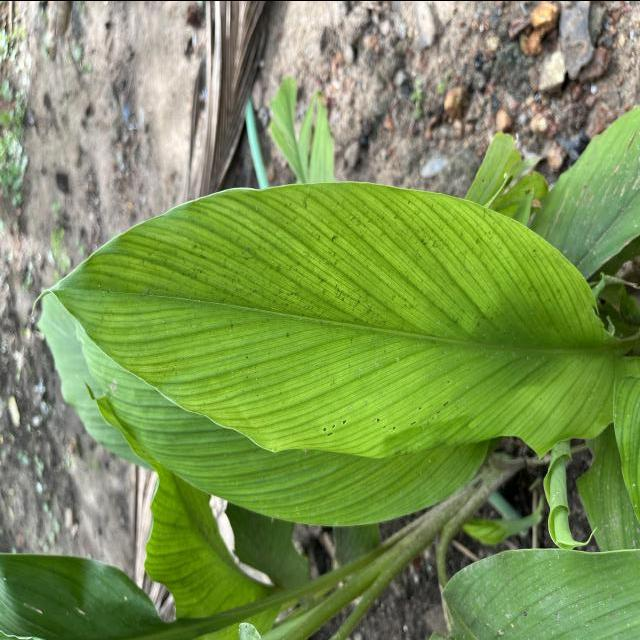Curcuma longa: (27, 176, 628, 462)
